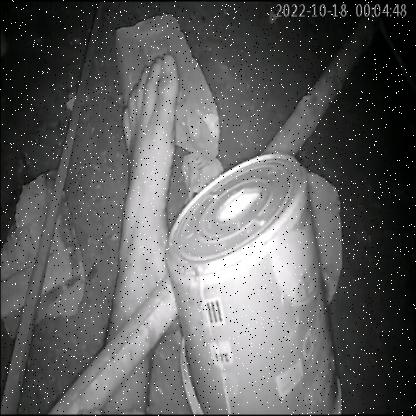leg: (91, 47, 186, 416)
